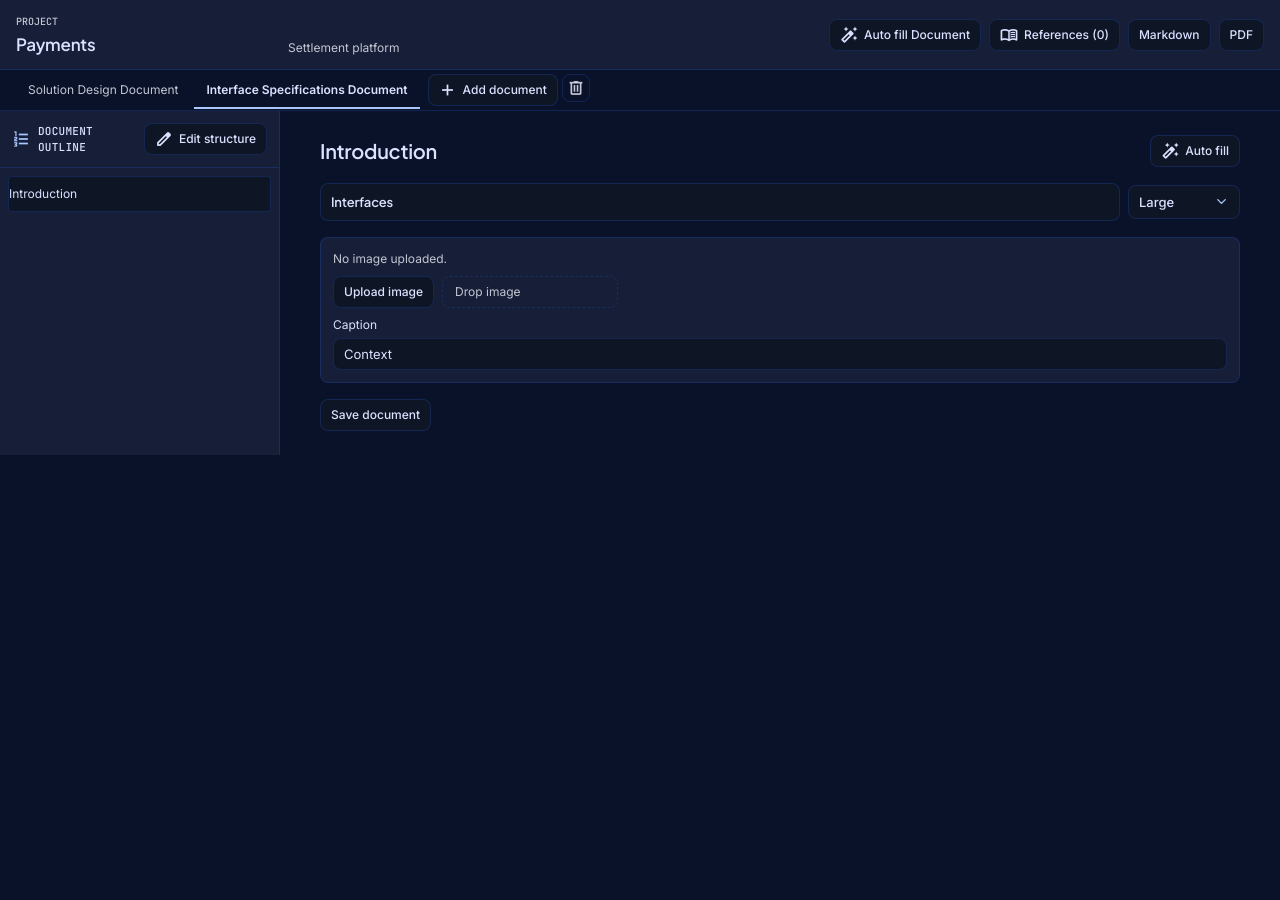
Test case: deleting a section asks first, then removes it
This screenshot has width=1280, height=900.
Check: the heading "Introduction" is shown, box [320,137,437,165]
Click the button "Edit structure" at {"x": 205, "y": 139}, box [144,123,267,155]
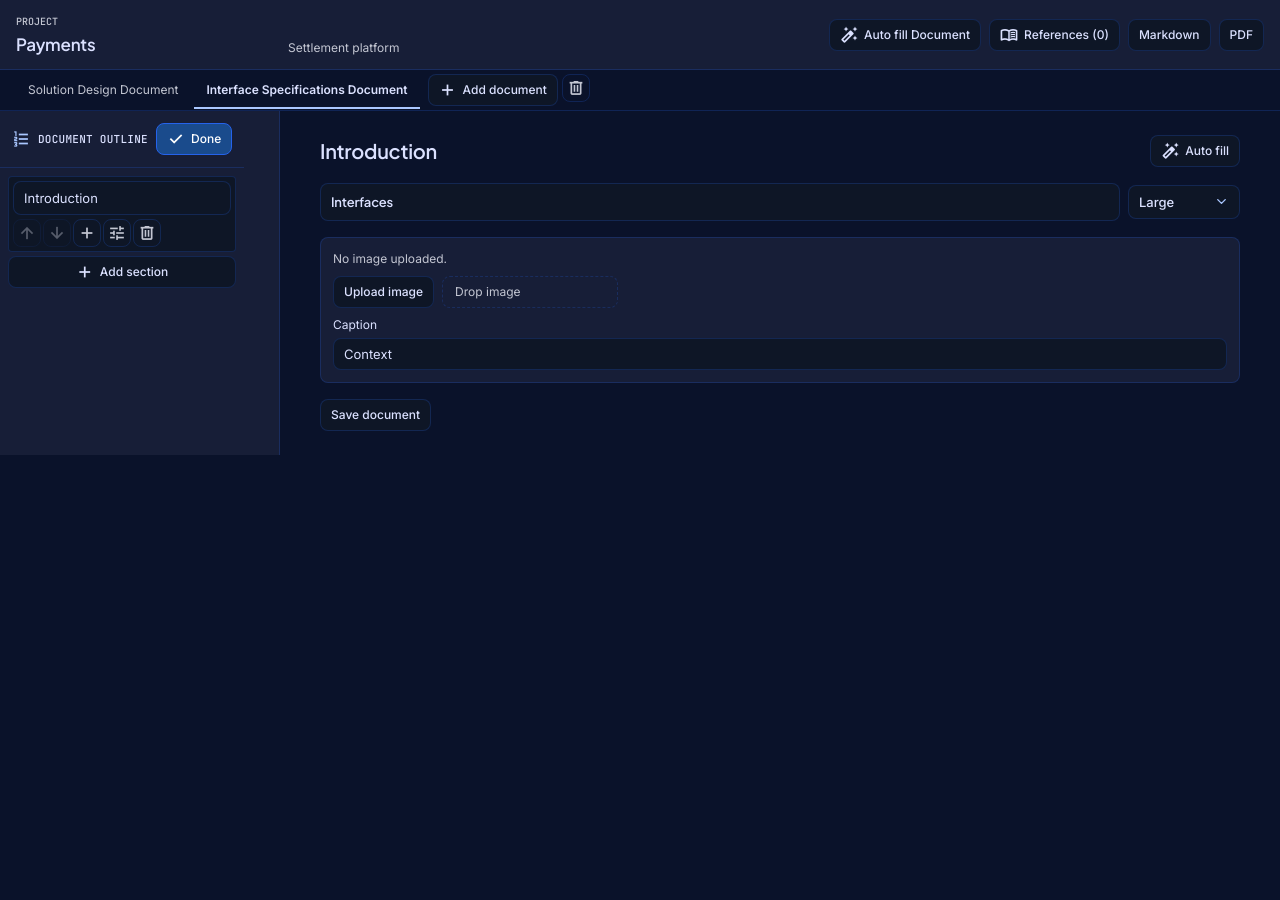
Click the button named "Delete Introduction" at {"x": 147, "y": 233}, box [133,219,161,247]
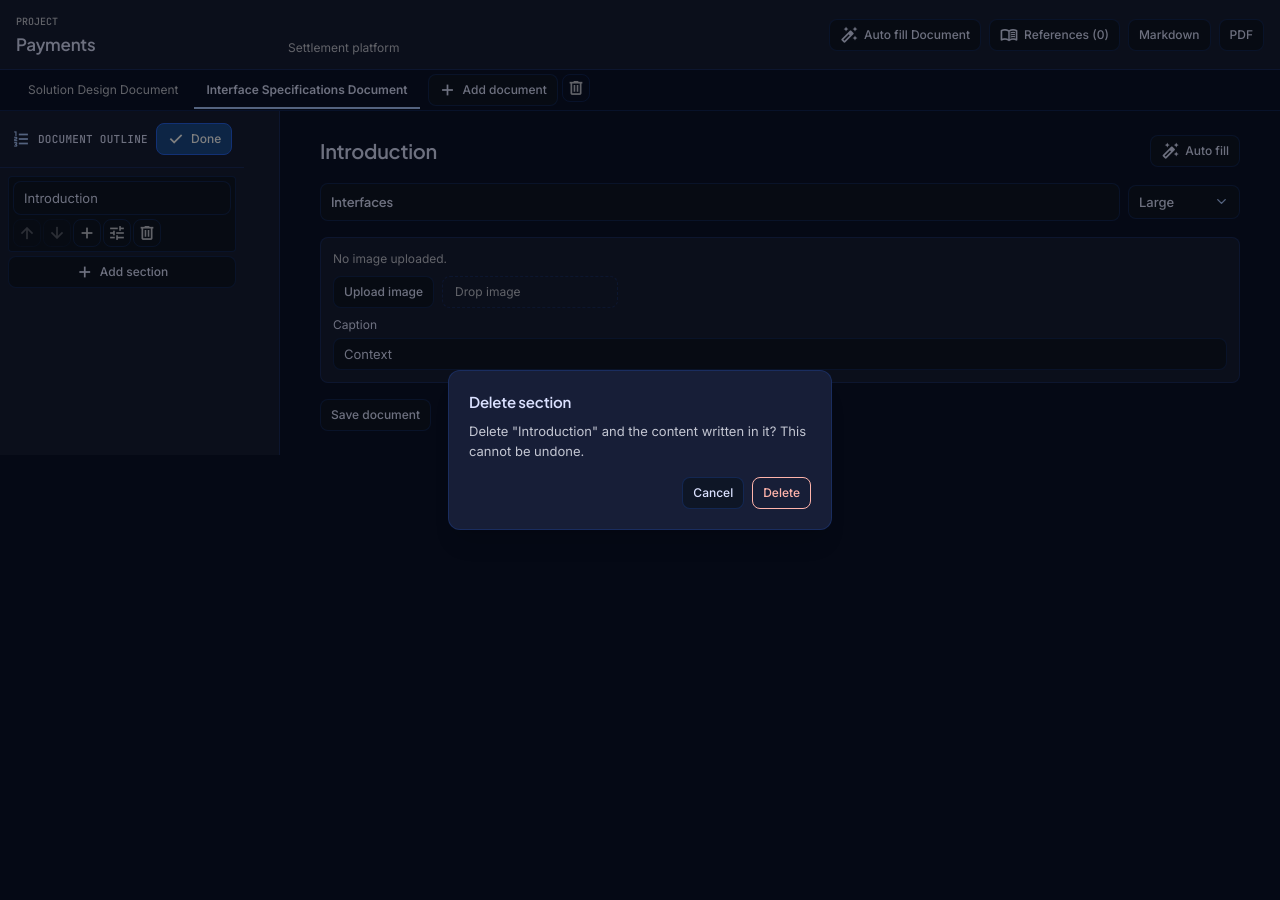
Click the button "Delete" at {"x": 782, "y": 493}, box [752,477,811,509]
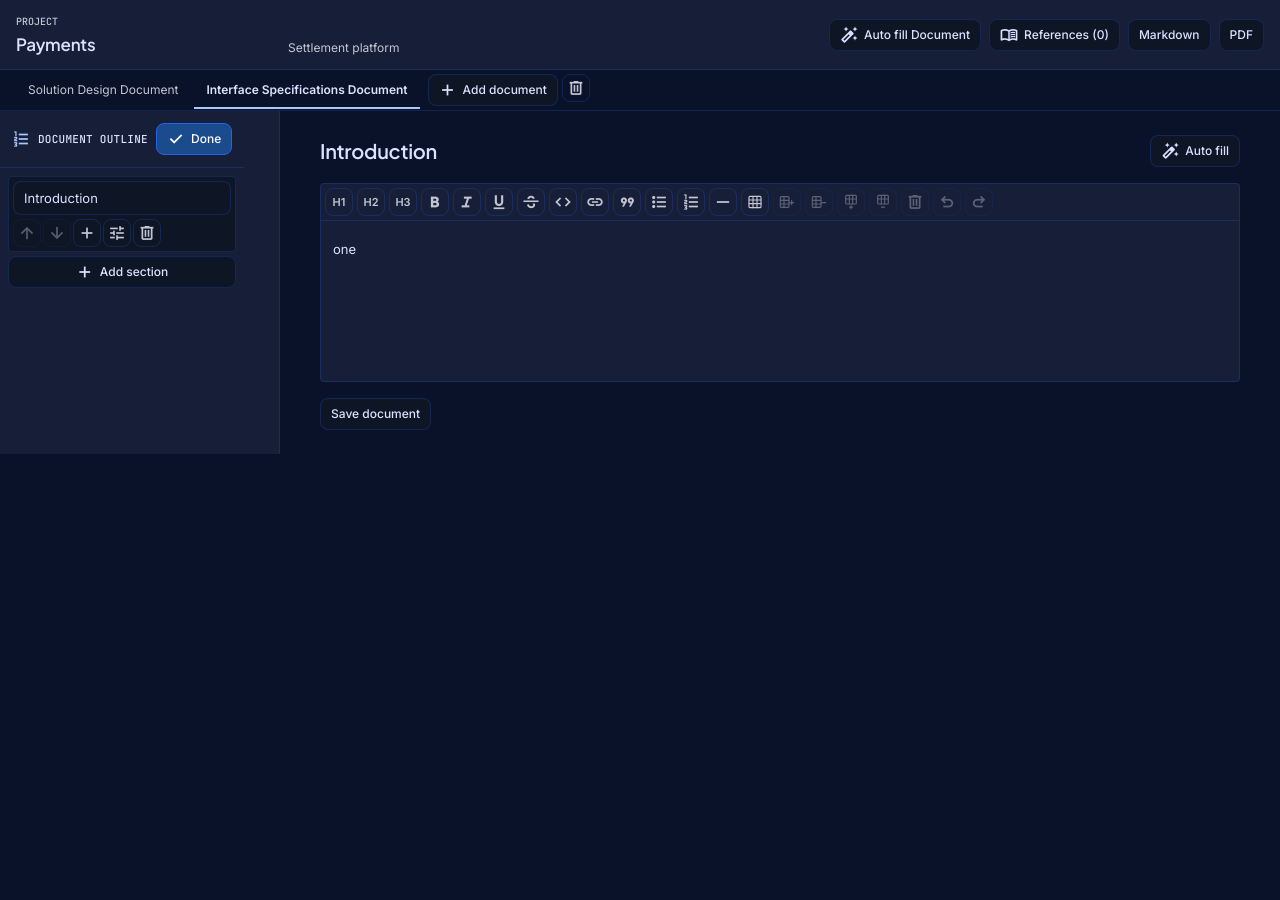
Check: the dialog is gone
